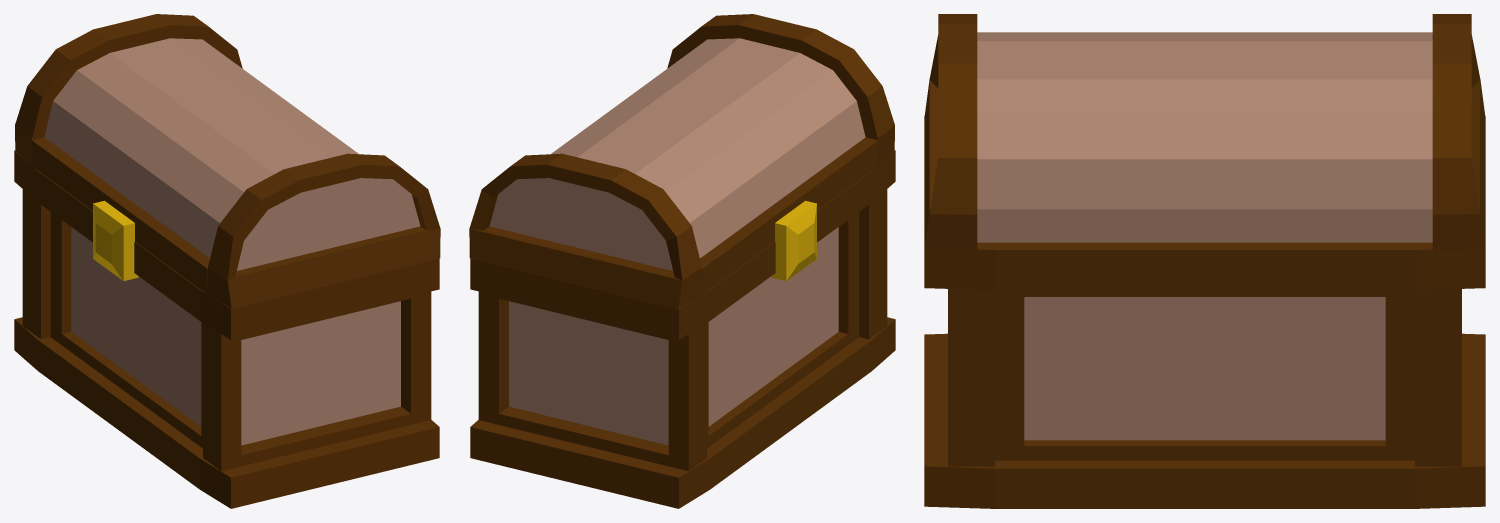
Rendered from chest-closed-colored.fbx.
3 renders of one model, left to right at view 1: azimuth 30°, elevation 25°; view 2: azimuth 150°, elevation 25°; view 3: azimuth 270°, elevation 25°, orthographic. The views are drawn at different scales.
Visible parts, largest first — view 1: Cube, Cube.001, Cube.003; view 2: Cube, Cube.001, Cube.003; view 3: Cube, Cube.001.
Part boxes in pixels (x1=…): Cube: x1=14, y1=150, x2=439, y2=508; Cube.001: x1=15, y1=14, x2=440, y2=308; Cube.003: x1=93, y1=200, x2=138, y2=281; Cube: x1=470, y1=150, x2=895, y2=508; Cube.001: x1=469, y1=14, x2=894, y2=308; Cube.003: x1=771, y1=200, x2=816, y2=281; Cube: x1=924, y1=116, x2=1485, y2=508; Cube.001: x1=924, y1=14, x2=1485, y2=250.
Size of the model in its own units: 2.43 by 3.07 by 3.93.
